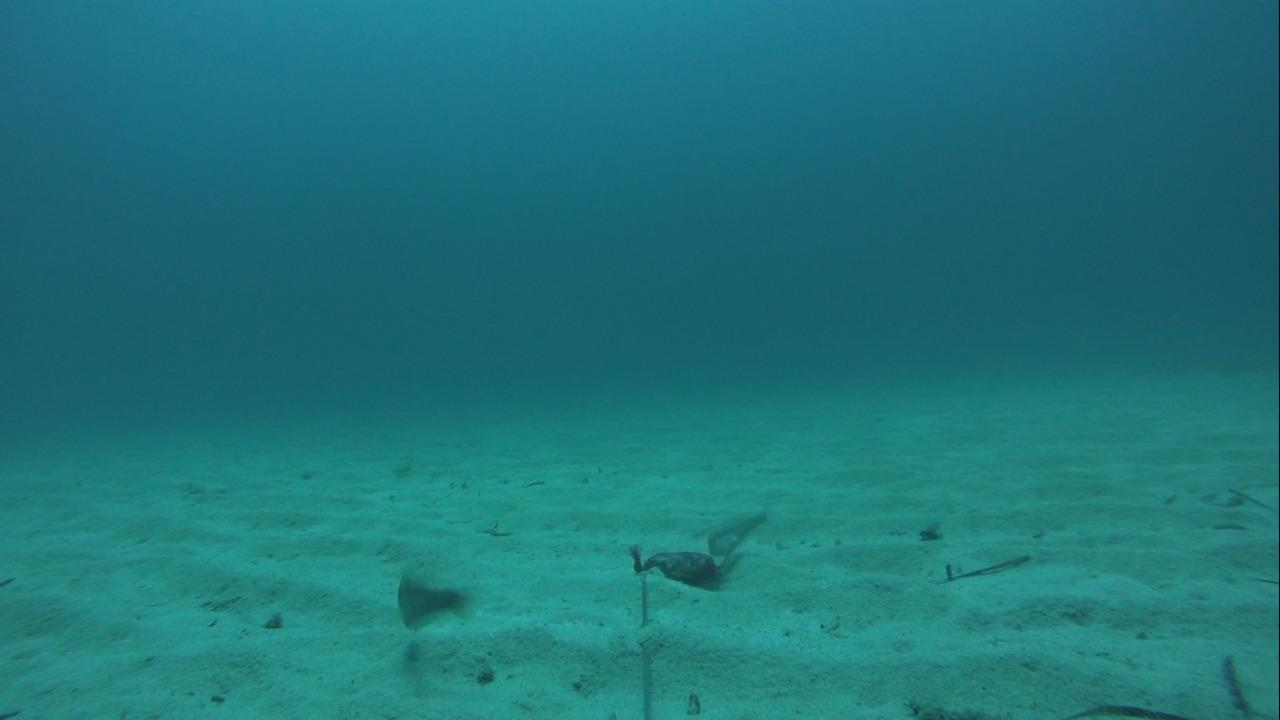raor: (388, 567, 485, 634), (706, 506, 769, 560)
